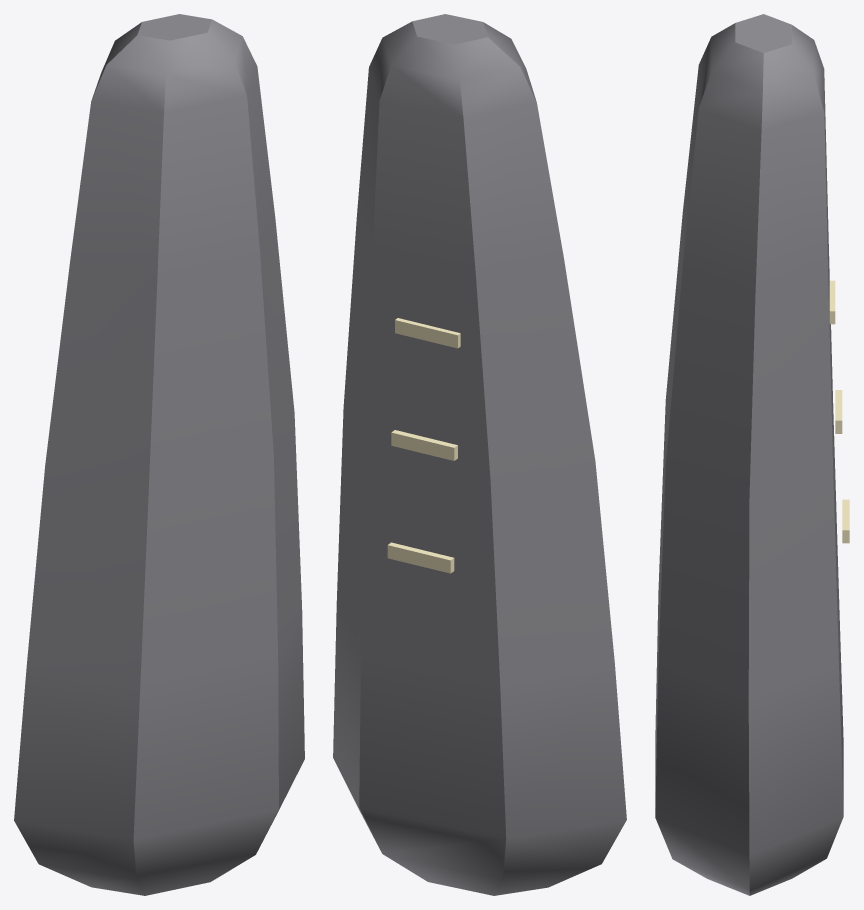
Rendered from standing_stone.gltf.
3 views of the same model, side by side, from view 1: azimuth 30°, elevation 25°; view 2: azimuth 150°, elevation 25°; view 3: azimuth 270°, elevation 25° (orthographic).
Visible parts, largest first — view 1: Body; view 2: Body; view 3: Body.
Part boxes in pixels (<box>): Body: <box>14,14,304,895</box>; Body: <box>333,14,626,895</box>; Body: <box>655,14,849,895</box>.
Size of the model in its own units: 1.4 by 3.85 by 0.8048.
